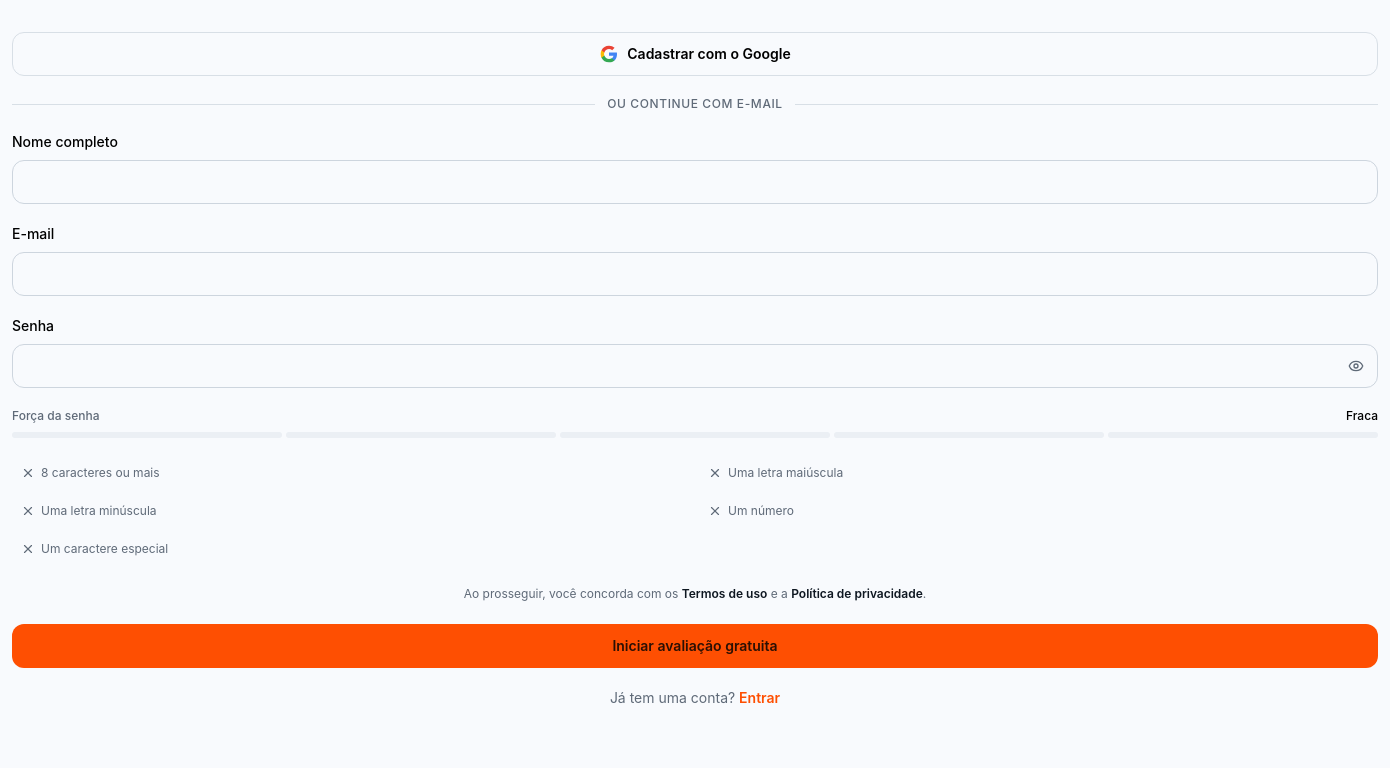
Test: AuthForm › starts registration after valid data
The width and height of the screenshot is (1390, 768).
Type "Ada Lovelace" into the field labelled "Nome completo". click: x=695, y=182
box: [12, 160, 1378, 204]
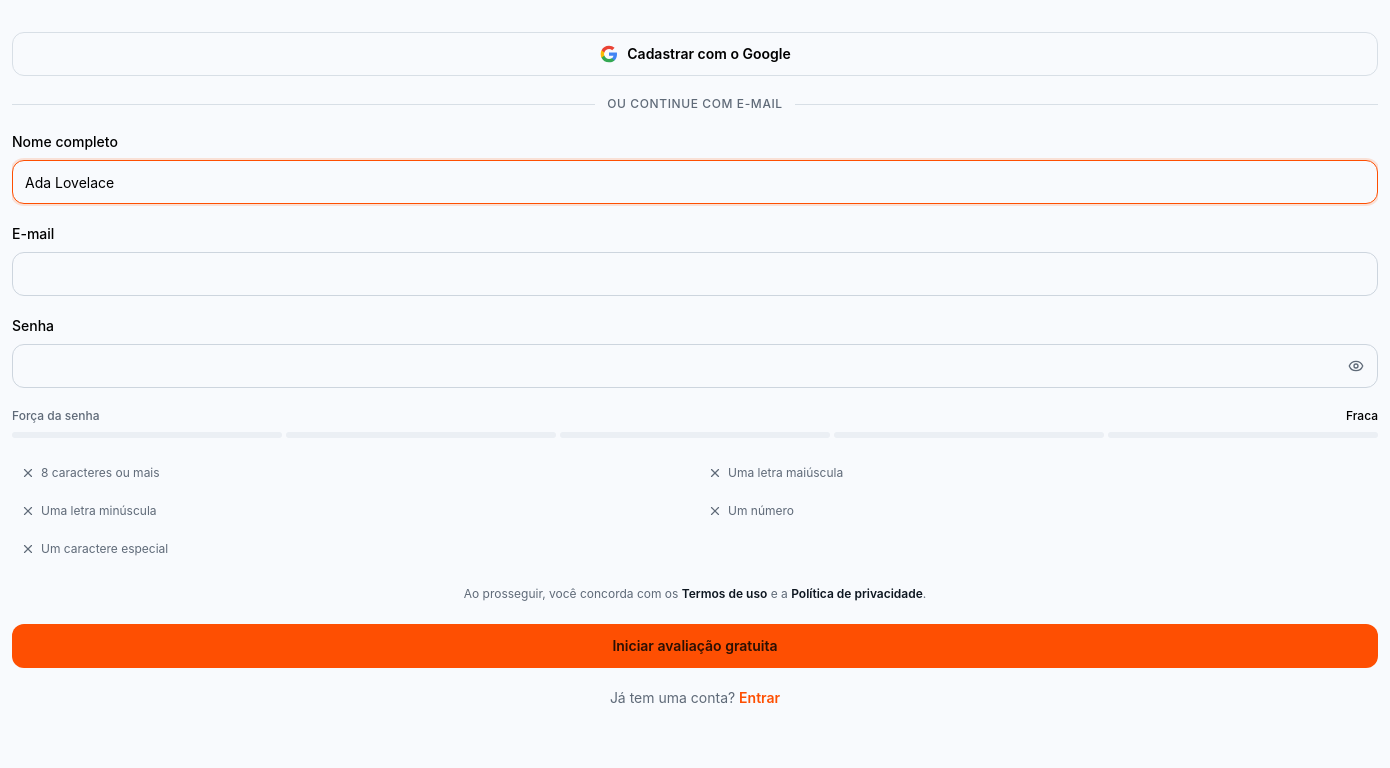
Type "ada@postmade.app" into the field labelled "E-mail". click: x=695, y=274
box: [12, 252, 1378, 296]
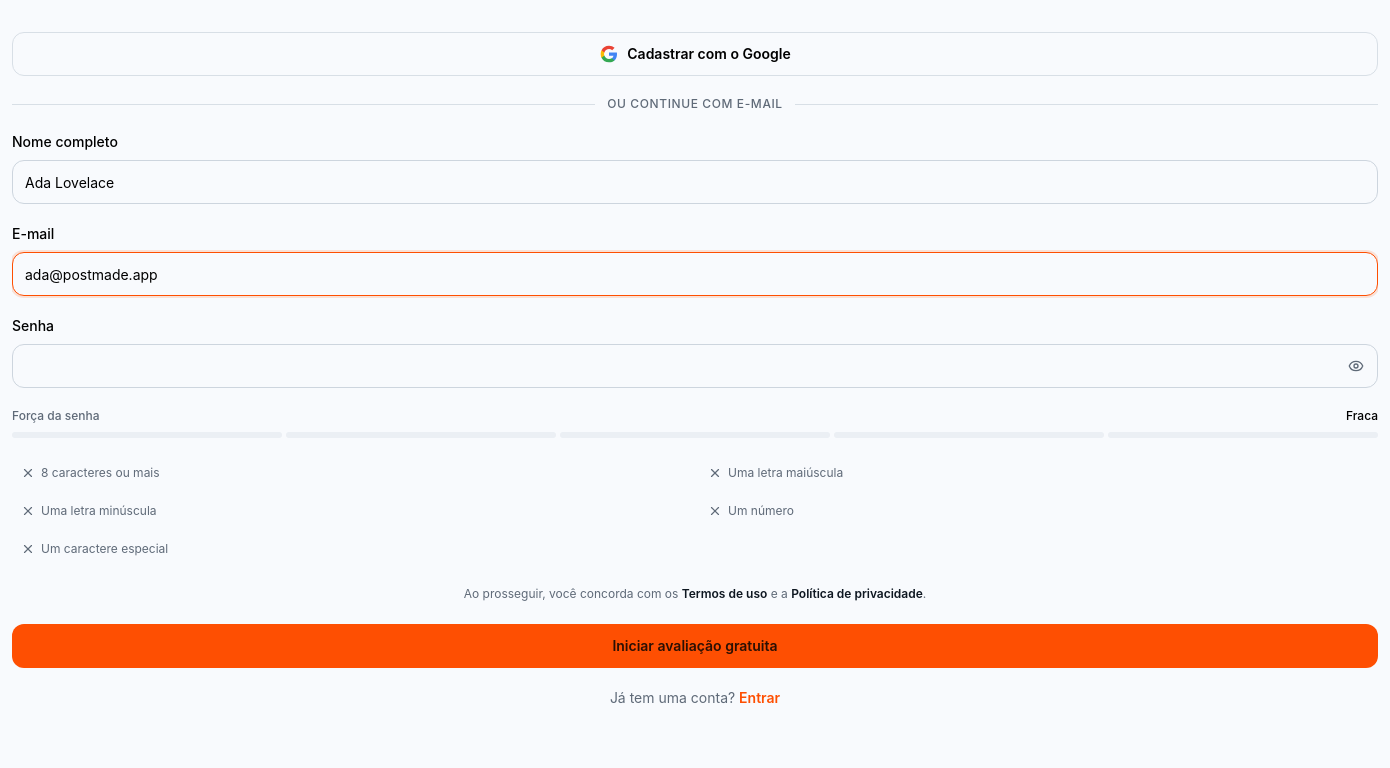
Type "Senha@123" into the password field labelled "Senha". click: x=695, y=366
box: [12, 344, 1378, 388]
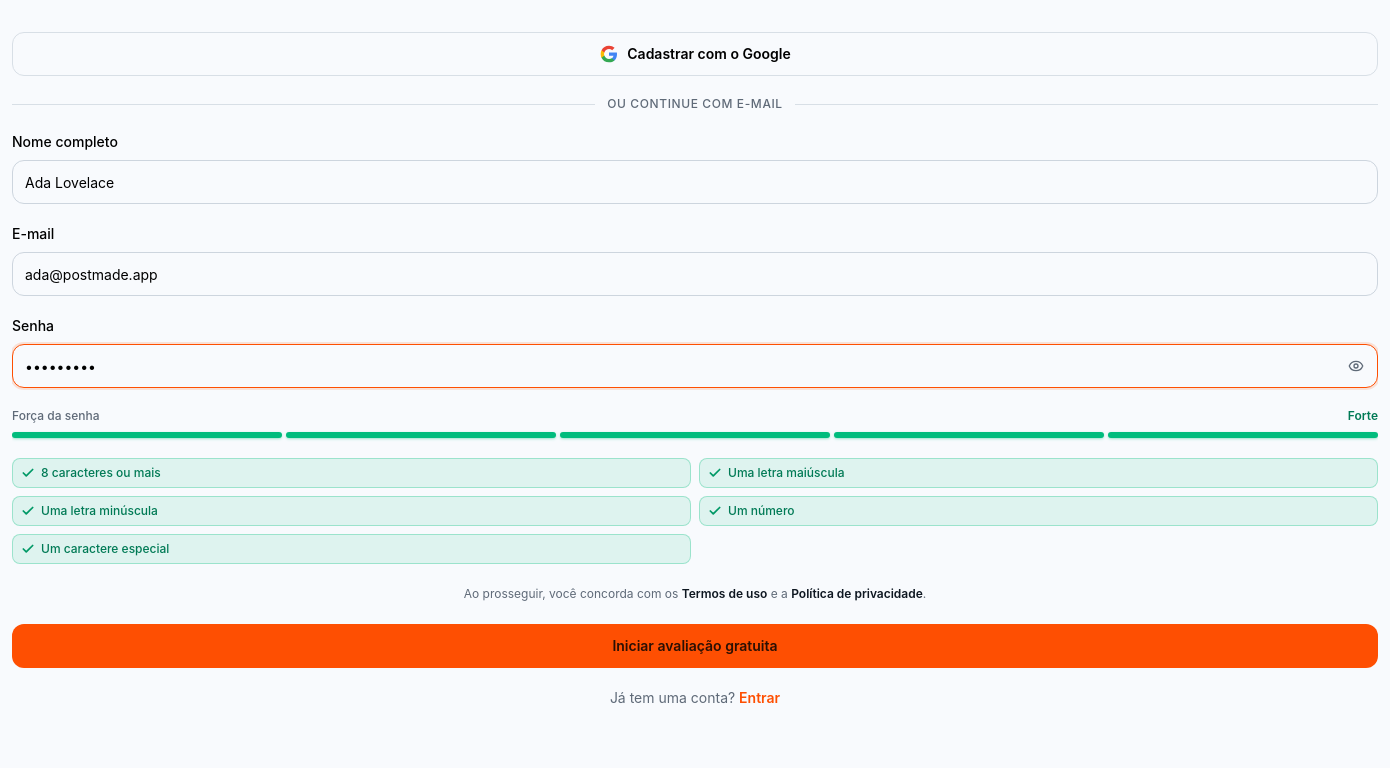
Click the button "Iniciar avaliação gratuita". click: x=695, y=646
box: [12, 624, 1378, 668]
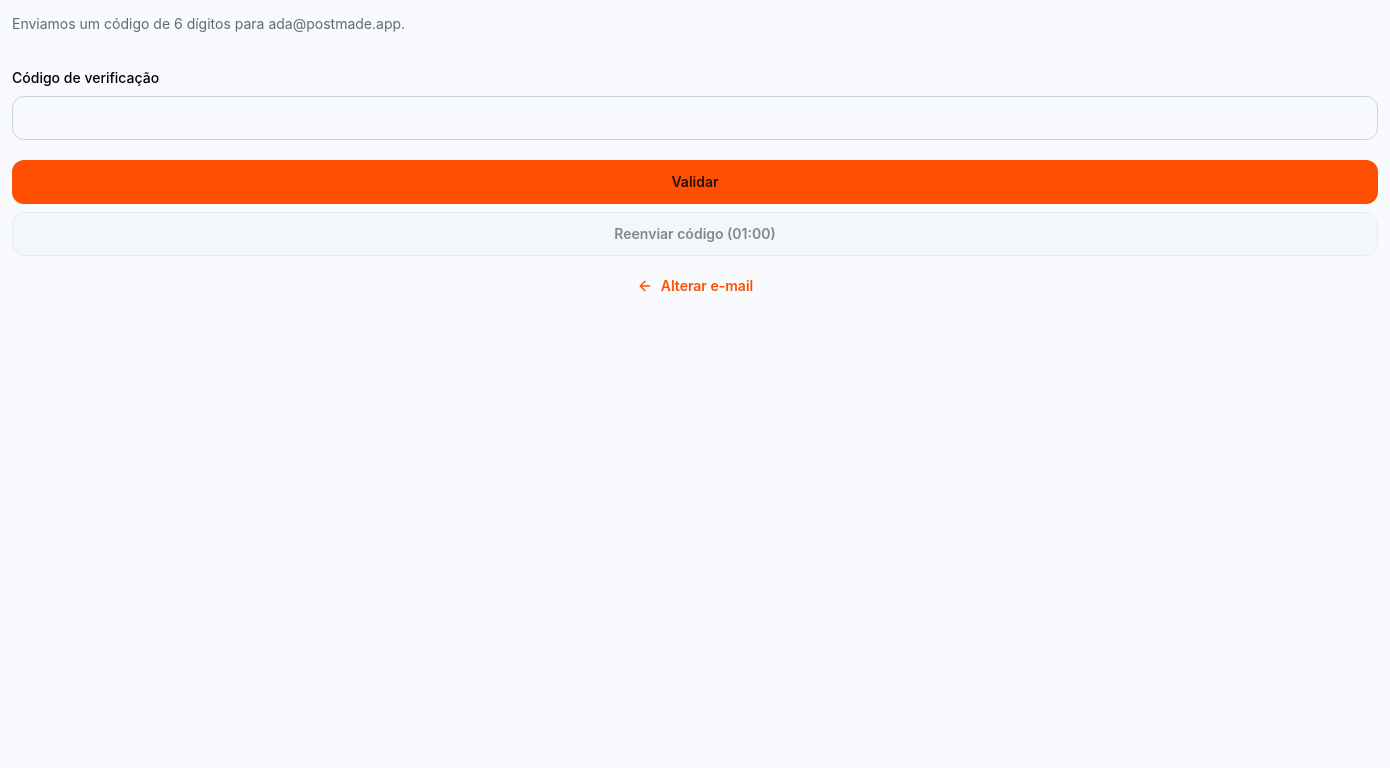
Check: the text "Enviamos um código de 6 dígitos para ada@postmade.app." is shown, box [12, 15, 405, 32]
